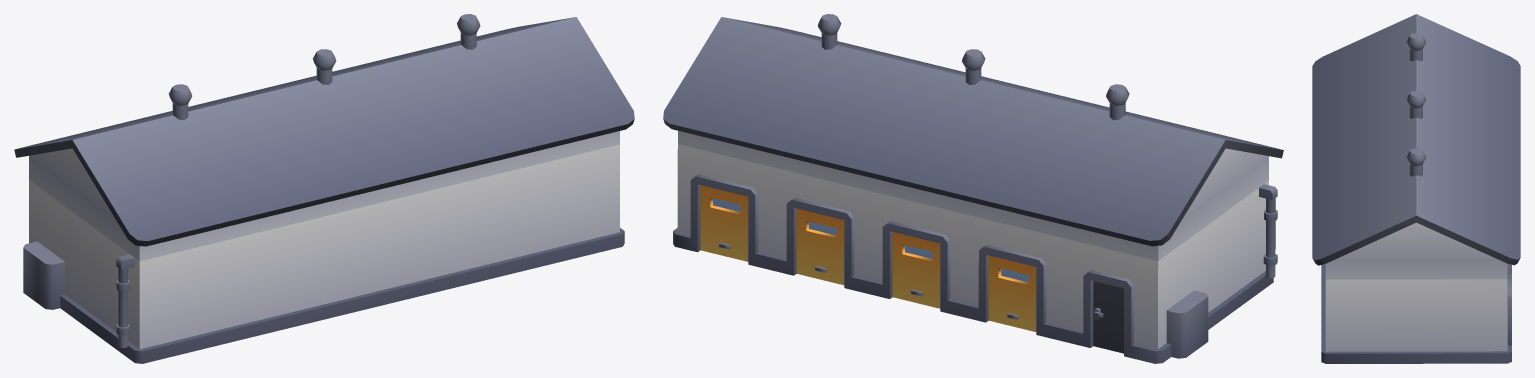
The model's file is building-s_lev1.glb.
3 renders of one model, left to right at view 1: azimuth 30°, elevation 25°; view 2: azimuth 150°, elevation 25°; view 3: azimuth 270°, elevation 25°, orthographic. The views are drawn at different scales.
Visible parts, largest first — view 1: building-s_lev1; view 2: building-s_lev1; view 3: building-s_lev1.
Boxes of the visible parts, box(x1,y1,x2,y2) form: building-s_lev1: box(14, 14, 634, 363); building-s_lev1: box(663, 14, 1283, 363); building-s_lev1: box(1312, 14, 1520, 363).
Size of the model in its own units: 2.12 by 0.8376 by 0.9163.
1 material, 1 textured.
